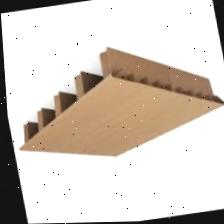cardboard: (1, 13, 224, 196)
